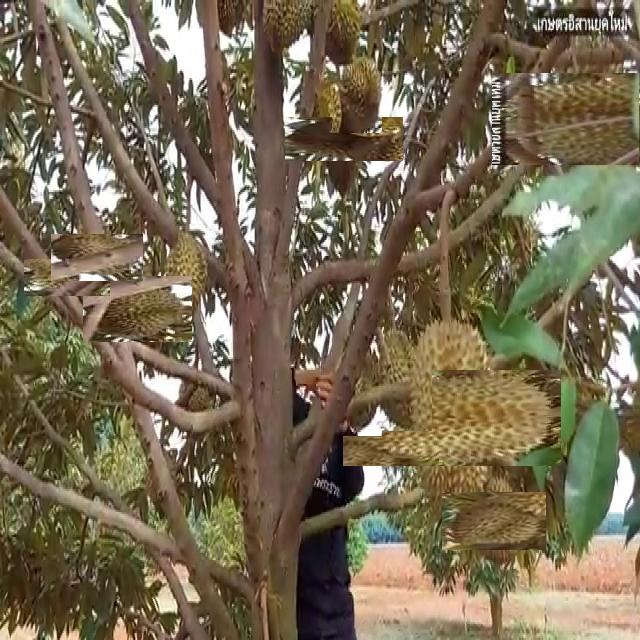durian: (373, 340, 531, 497), (517, 47, 640, 190), (93, 265, 181, 353), (303, 99, 385, 180), (453, 481, 534, 562), (374, 323, 432, 431), (328, 334, 382, 436), (162, 224, 214, 322), (62, 222, 132, 292), (308, 0, 366, 72), (332, 51, 382, 133), (36, 246, 98, 308), (296, 64, 340, 151), (256, 0, 318, 58)
